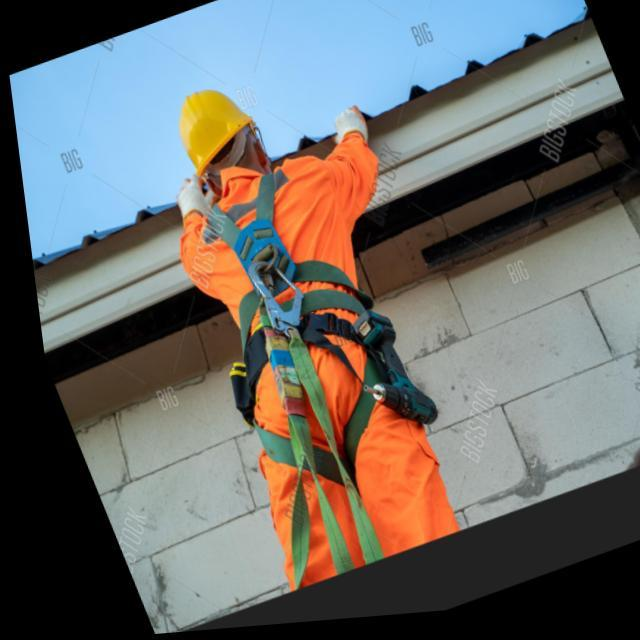belt: (150, 136, 396, 402)
